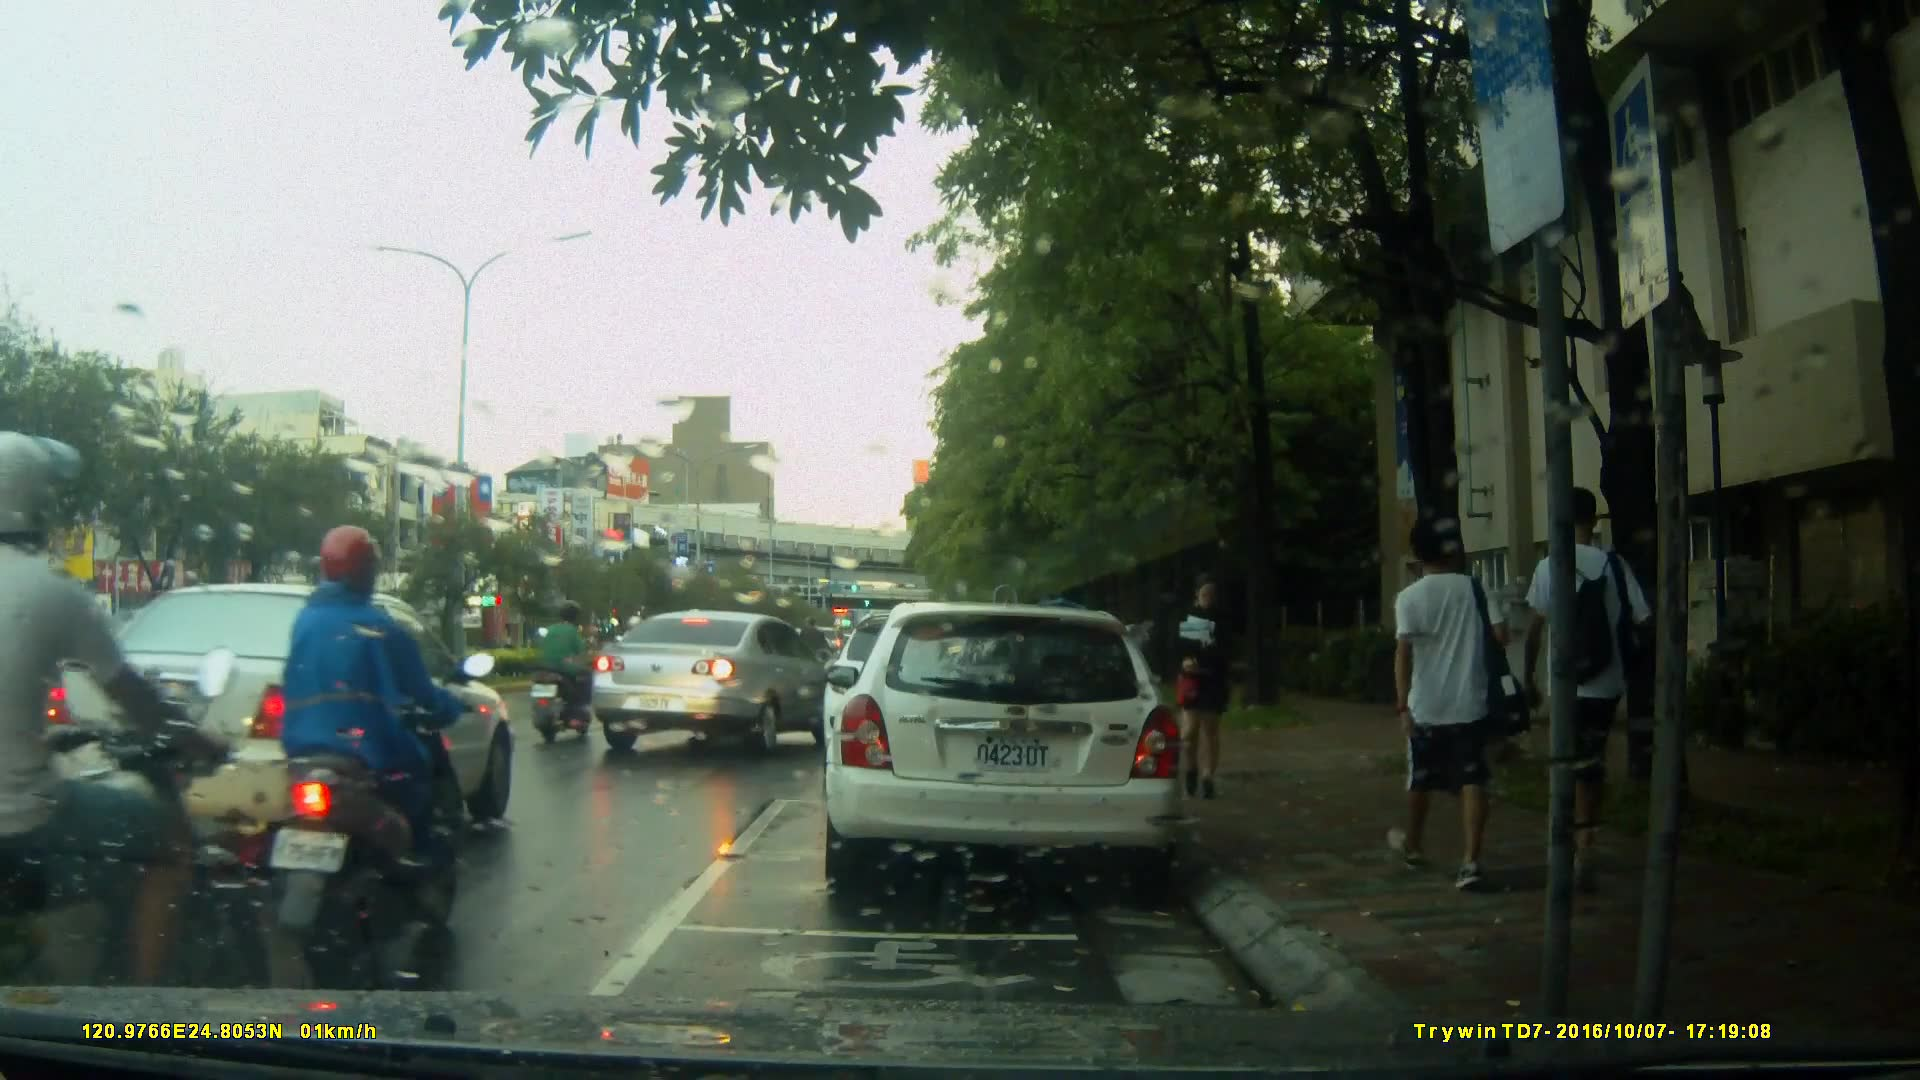pedestrian: (1366, 497, 1506, 895), (1522, 471, 1649, 902), (1160, 566, 1249, 809), (1122, 604, 1155, 732)
rider: (1, 435, 253, 1062), (270, 523, 494, 965), (533, 593, 601, 740), (799, 613, 829, 710)
vehicle: (37, 582, 517, 867), (820, 602, 1188, 898), (591, 610, 841, 759)
